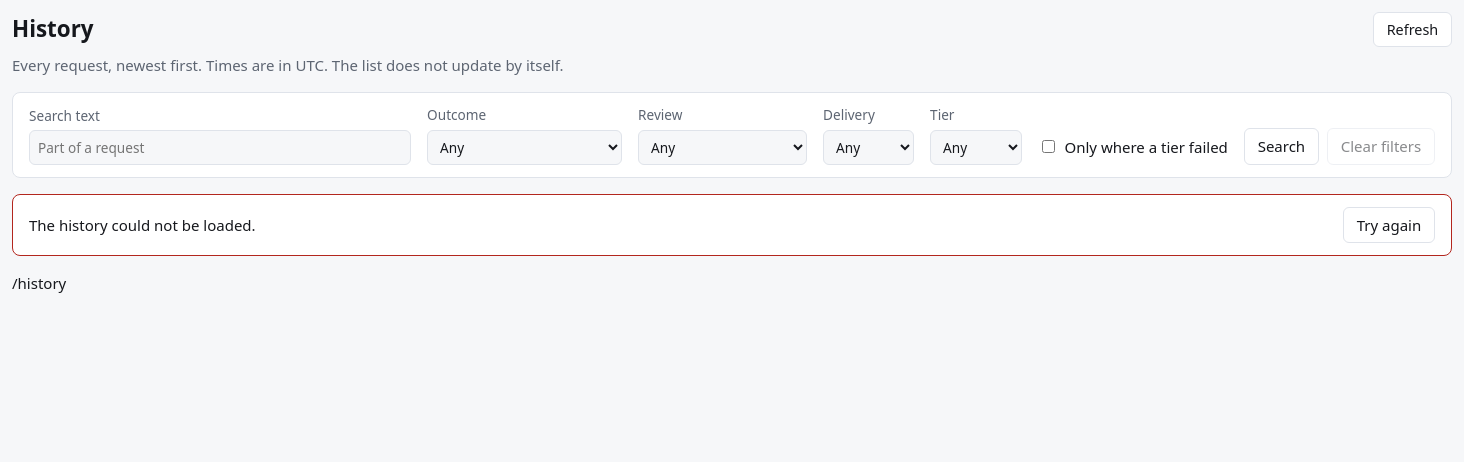
Scenario: problems › offers to try again when the history cannot be loaded
Expected: the message shows "The history could not be loaded.", [29,215,256,235]
Click the button "Try again": (1389, 225) [1343,207,1435,243]
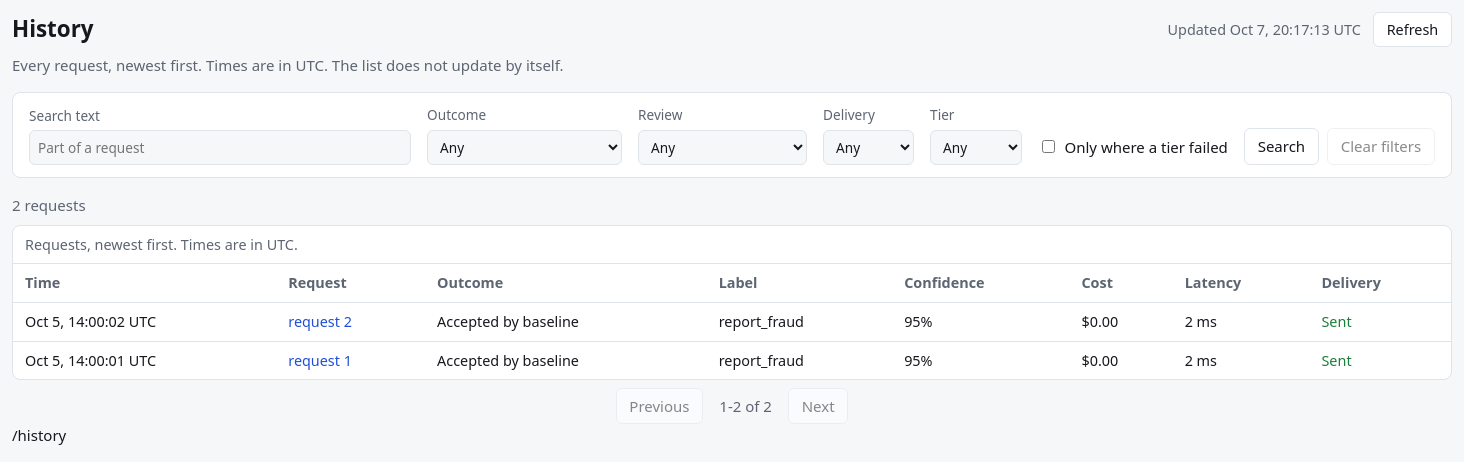
Expected: the text "2 requests" is shown, [12,195,86,215]
